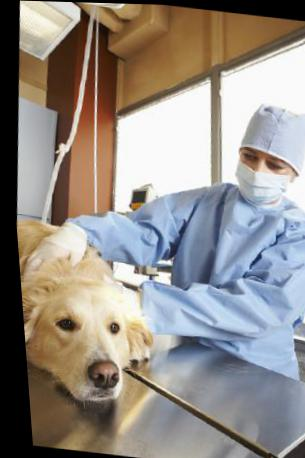WRONG: (234, 143, 292, 206)
